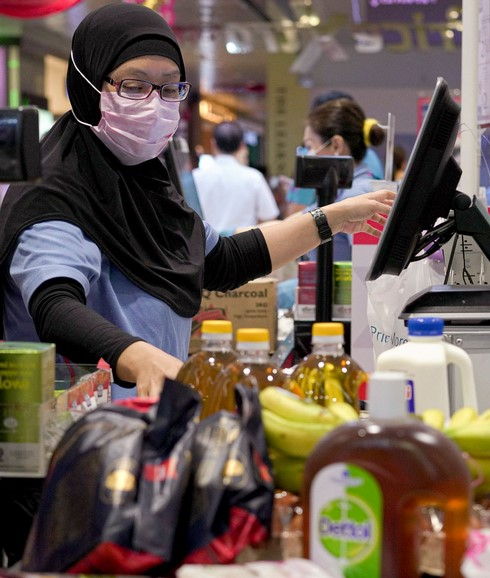face_with_mask: (76, 39, 190, 175), (298, 92, 367, 160)
